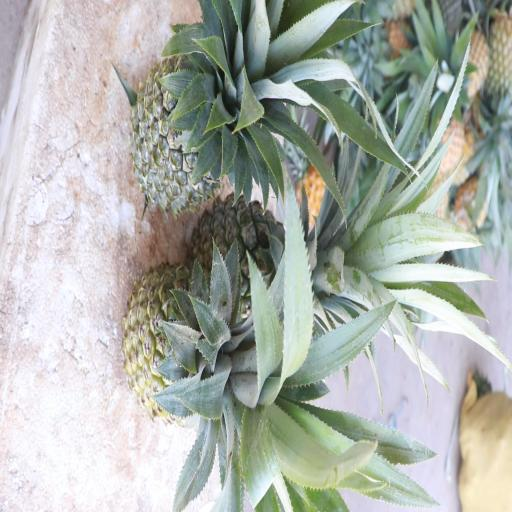------------------------------: (120, 254, 355, 432), (187, 192, 369, 333)
Pineapple - v8 v1: (487, 8, 512, 136)
